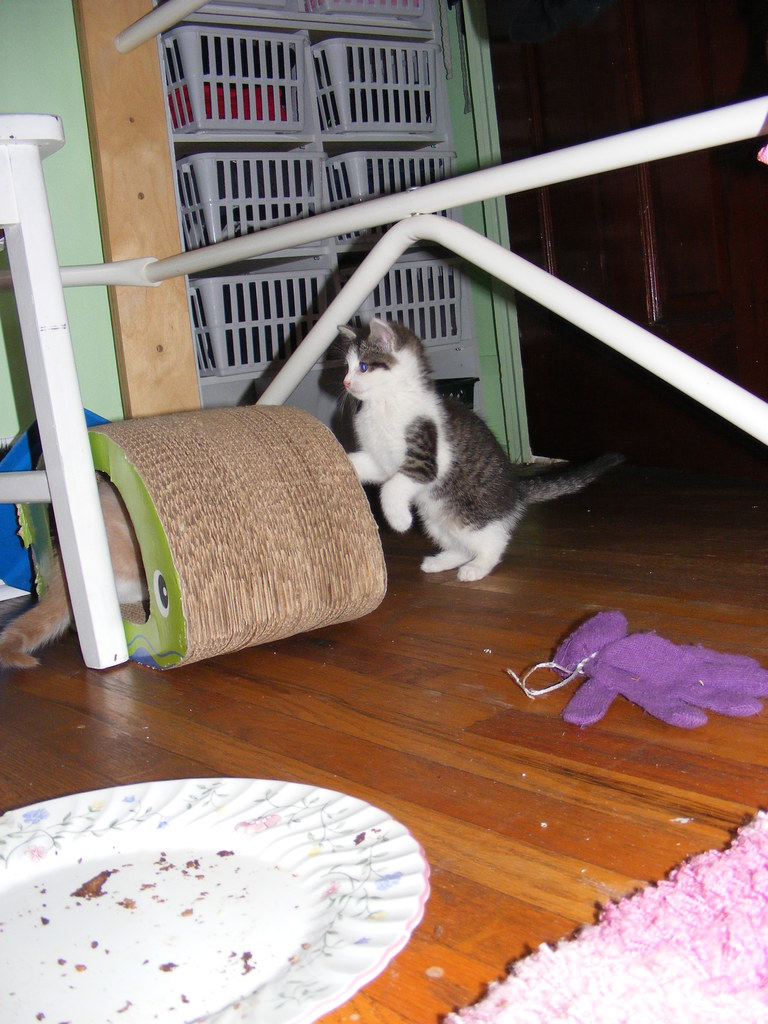plate: (40, 757, 453, 1016)
